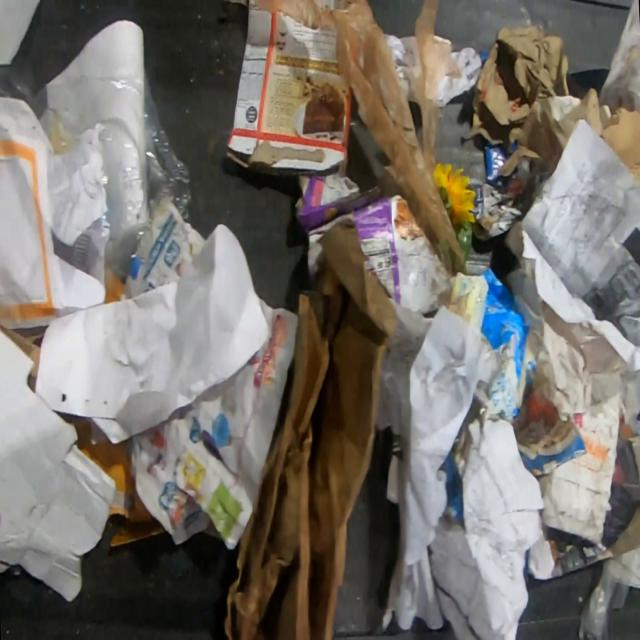cardboard: (222, 222, 400, 640), (0, 320, 117, 602), (470, 24, 640, 185), (295, 174, 452, 318), (225, 0, 351, 178), (439, 267, 542, 423), (540, 369, 620, 544), (310, 0, 348, 9), (474, 385, 487, 407)
soft_plastic: (253, 0, 466, 273), (24, 74, 192, 292), (0, 51, 35, 100)
